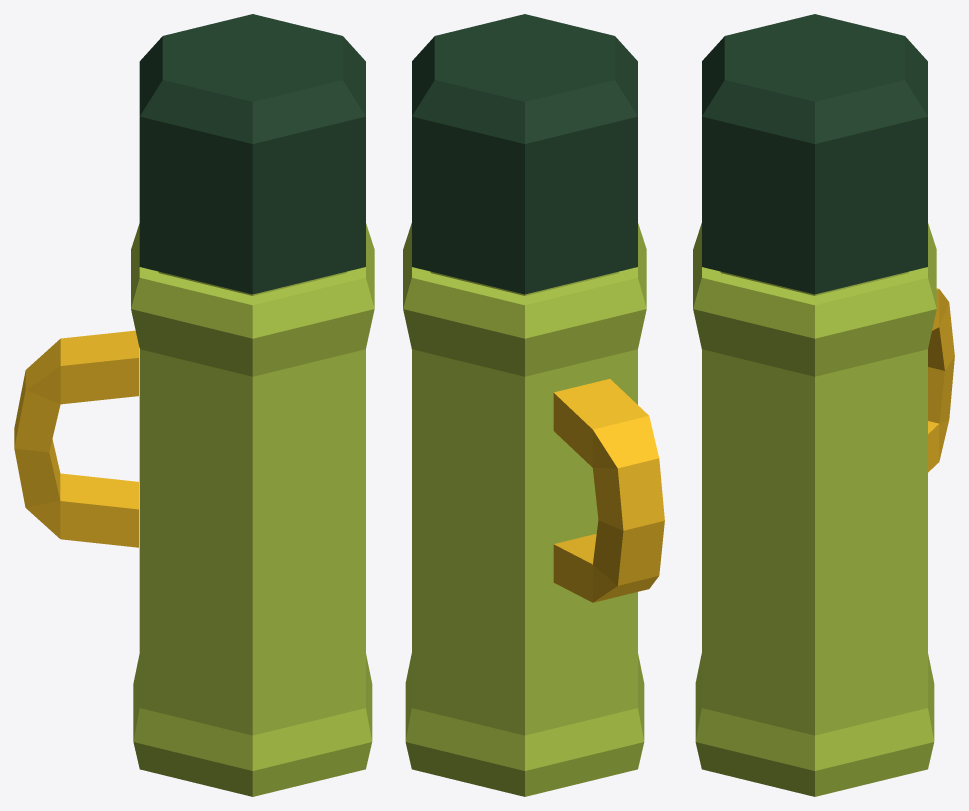
Rendered from props-thermos.glb.
3 views of the same model, side by side, from view 1: azimuth 30°, elevation 25°; view 2: azimuth 150°, elevation 25°; view 3: azimuth 270°, elevation 25° (orthographic).
Parts seen in each view (by area): view 1: thermos; view 2: thermos; view 3: thermos.
Boxes of the visible parts, x1,y1,x2,y2 form: thermos: (14,14,374,796); thermos: (403,14,664,796); thermos: (693,14,954,796).
Bounding box in the file's own units: 0.1667 × 0.3501 × 0.1215.
